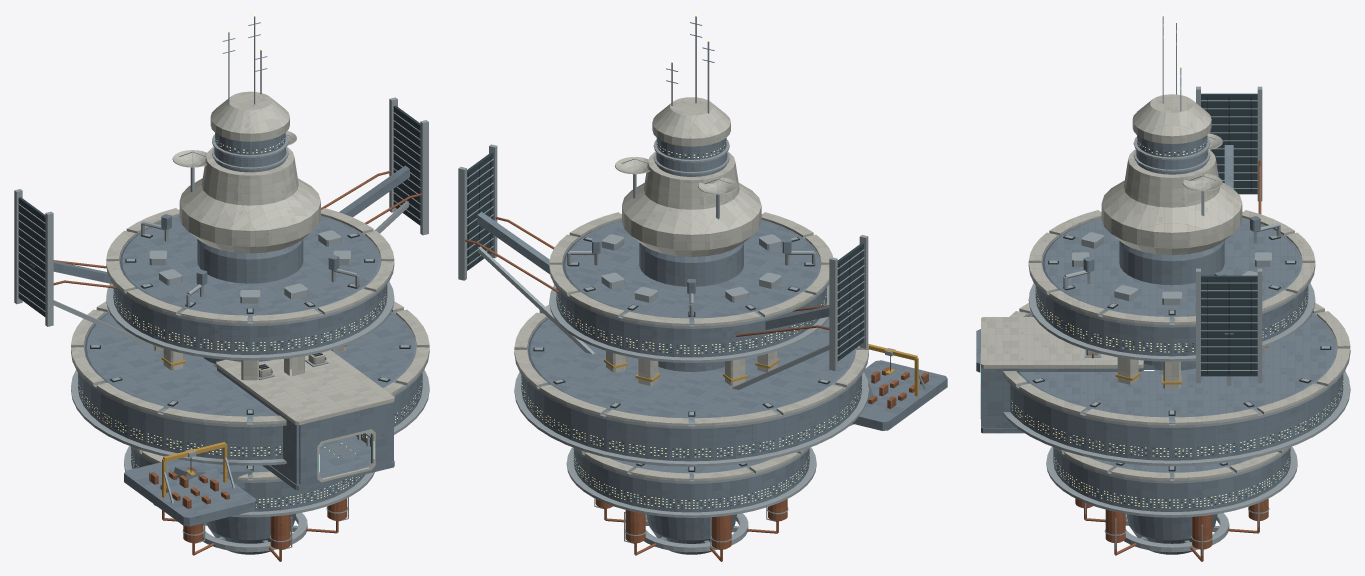
The model's file is helix.glb.
3 renders of one model, left to right at view 1: azimuth 30°, elevation 25°; view 2: azimuth 150°, elevation 25°; view 3: azimuth 270°, elevation 25°, orthographic.
Parts seen in each view (by area): view 1: helix / hull, helix / armor, helix / metal, helix / radiator, helix / copper, helix / dark, helix / warm, helix / ochre; view 2: helix / hull, helix / armor, helix / metal, helix / radiator, helix / copper, helix / warm, helix / dark, helix / ochre, helix / glass; view 3: helix / hull, helix / armor, helix / metal, helix / radiator, helix / copper, helix / warm, helix / dark, helix / glass.
Part boxes in pixels (bbox=[...]): helix / hull: bbox=[30, 133, 422, 554]; helix / armor: bbox=[71, 91, 429, 482]; helix / metal: bbox=[14, 16, 429, 552]; helix / radiator: bbox=[18, 105, 420, 316]; helix / copper: bbox=[53, 170, 421, 561]; helix / dark: bbox=[21, 110, 419, 472]; helix / warm: bbox=[79, 14, 421, 507]; helix / ochre: bbox=[153, 345, 351, 497]; helix / hull: bbox=[477, 138, 947, 554]; helix / armor: bbox=[514, 97, 868, 481]; helix / metal: bbox=[458, 16, 926, 552]; helix / radiator: bbox=[467, 152, 863, 361]; helix / copper: bbox=[465, 217, 928, 561]; helix / warm: bbox=[521, 14, 861, 508]; helix / dark: bbox=[468, 157, 890, 471]; helix / ochre: bbox=[604, 344, 918, 396]; helix / glass: bbox=[521, 145, 858, 508]; helix / hull: bbox=[976, 135, 1343, 554]; helix / armor: bbox=[980, 94, 1350, 480]; helix / metal: bbox=[1003, 16, 1350, 555]; helix / radiator: bbox=[1201, 93, 1257, 376]; helix / copper: bbox=[1075, 160, 1268, 561]; helix / warm: bbox=[1011, 14, 1343, 508]; helix / dark: bbox=[1032, 96, 1331, 471]; helix / glass: bbox=[1011, 145, 1343, 508].
Size of the model in its own units: 118 by 157 by 101.
Materials: 10 (4 with a texture image).
